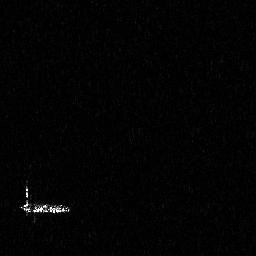ship: (17, 181, 71, 218)
